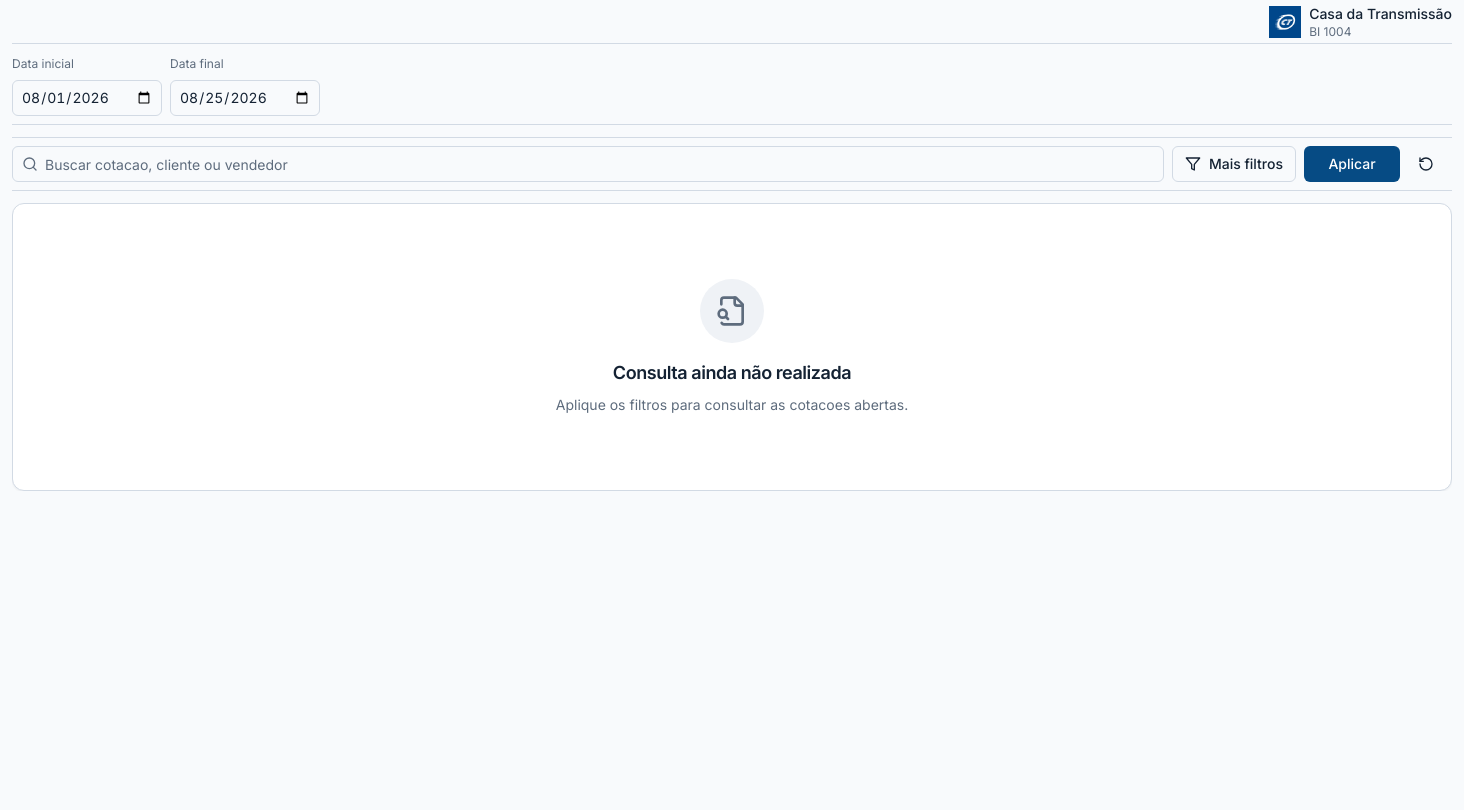
it: open quotes page › clears pending and applied filters and returns to pre-search
This screenshot has width=1464, height=810.
Click the button "Aplicar".
click(1352, 164)  # box [1304, 146, 1400, 182]
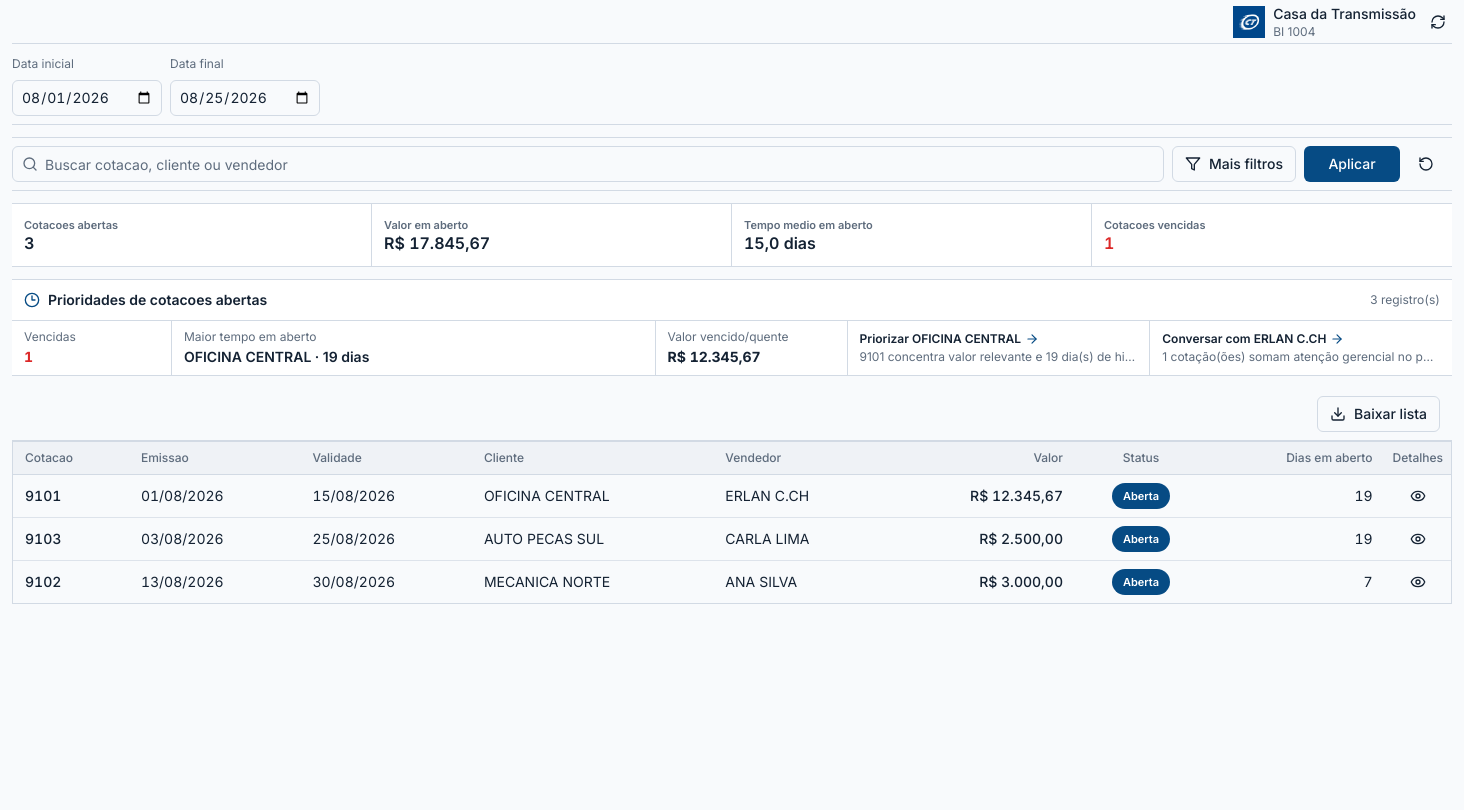
Type "2026-08-10" into the date field labelled "Data inicial".
click(87, 98); type("2026-08-10")  # box [12, 80, 162, 116]
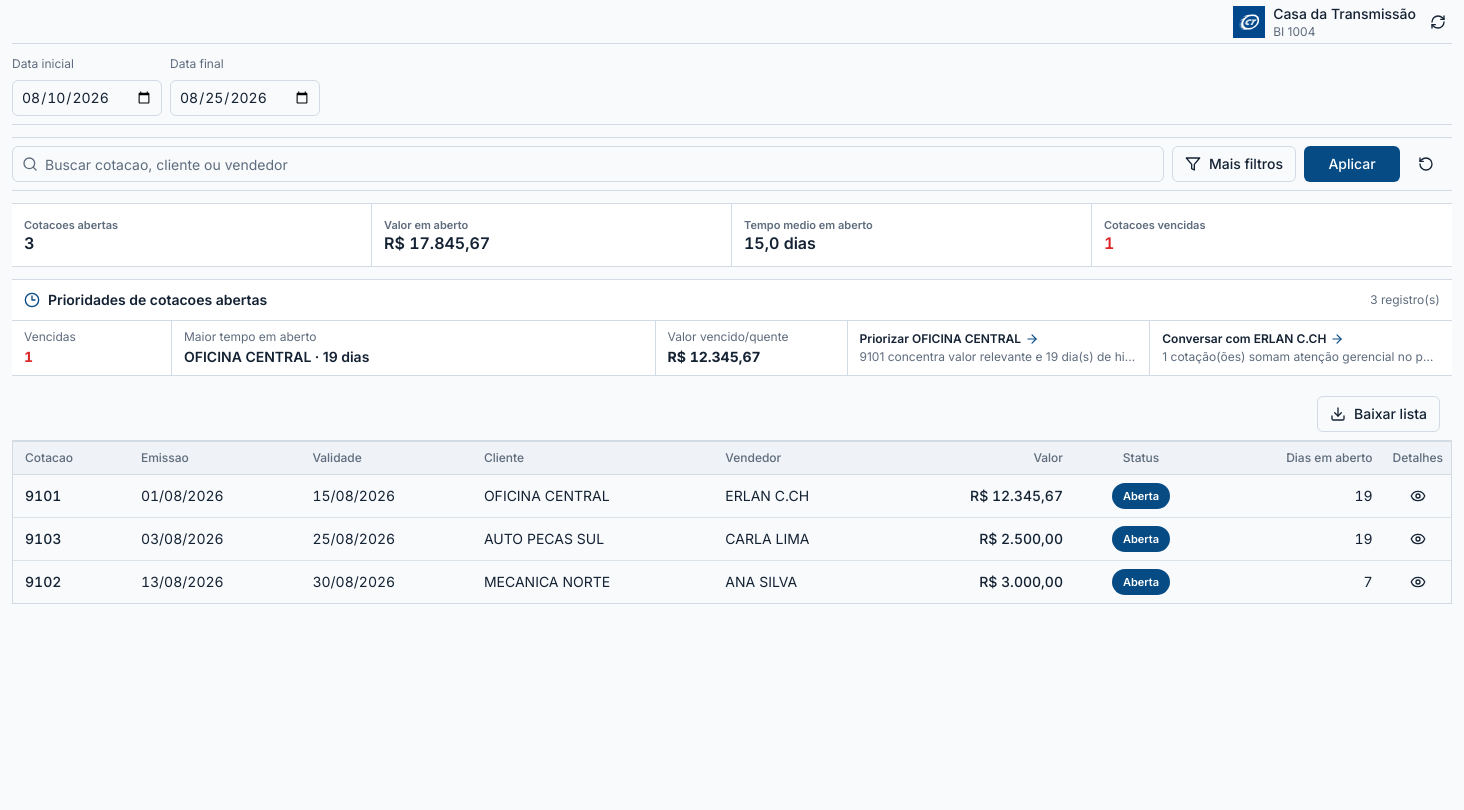
Type "oficina" into the field named "Buscar cotacoes".
click(588, 164); type("oficina")  # box [12, 146, 1164, 182]
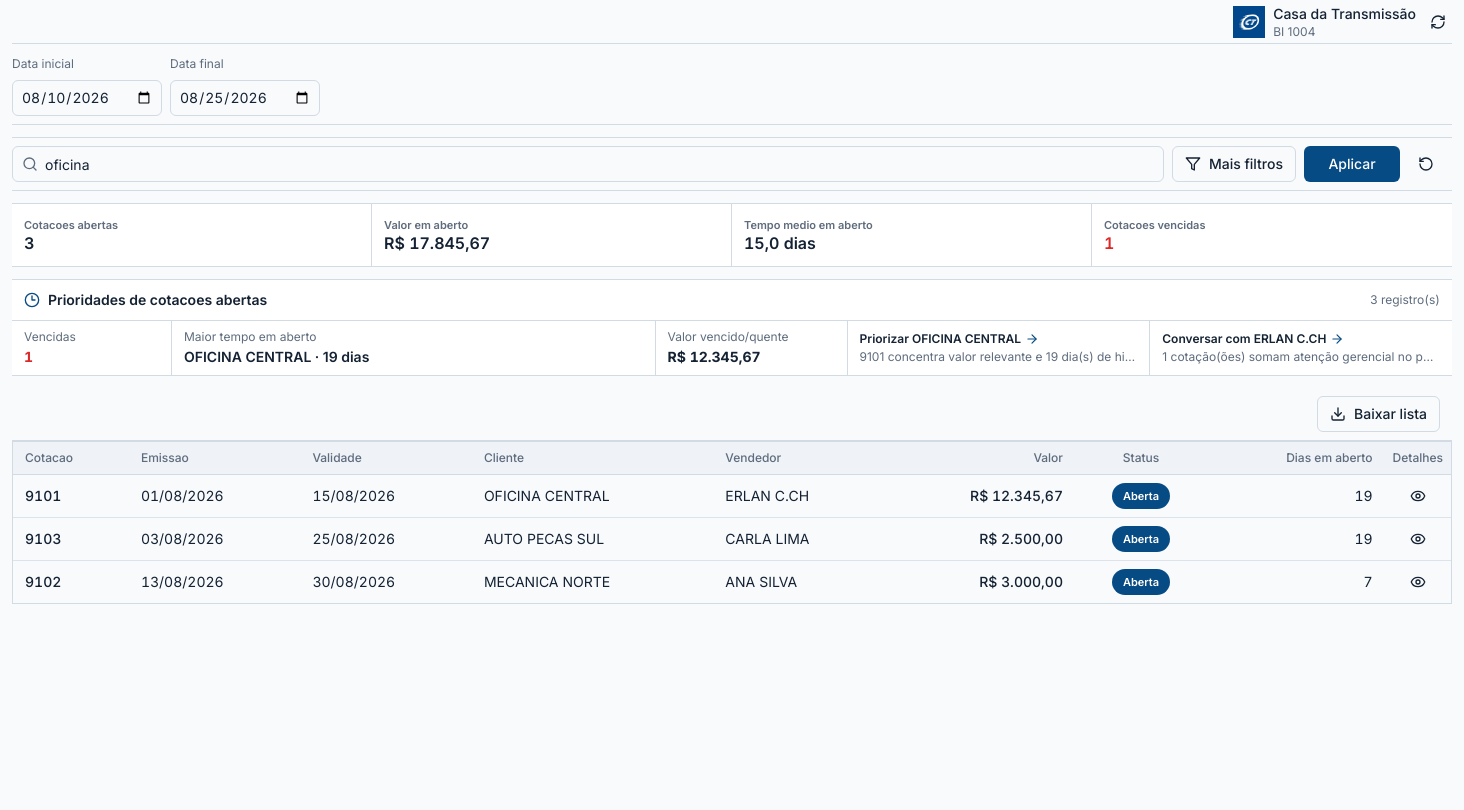
Click the button "Aplicar".
click(1352, 164)  # box [1304, 146, 1400, 182]
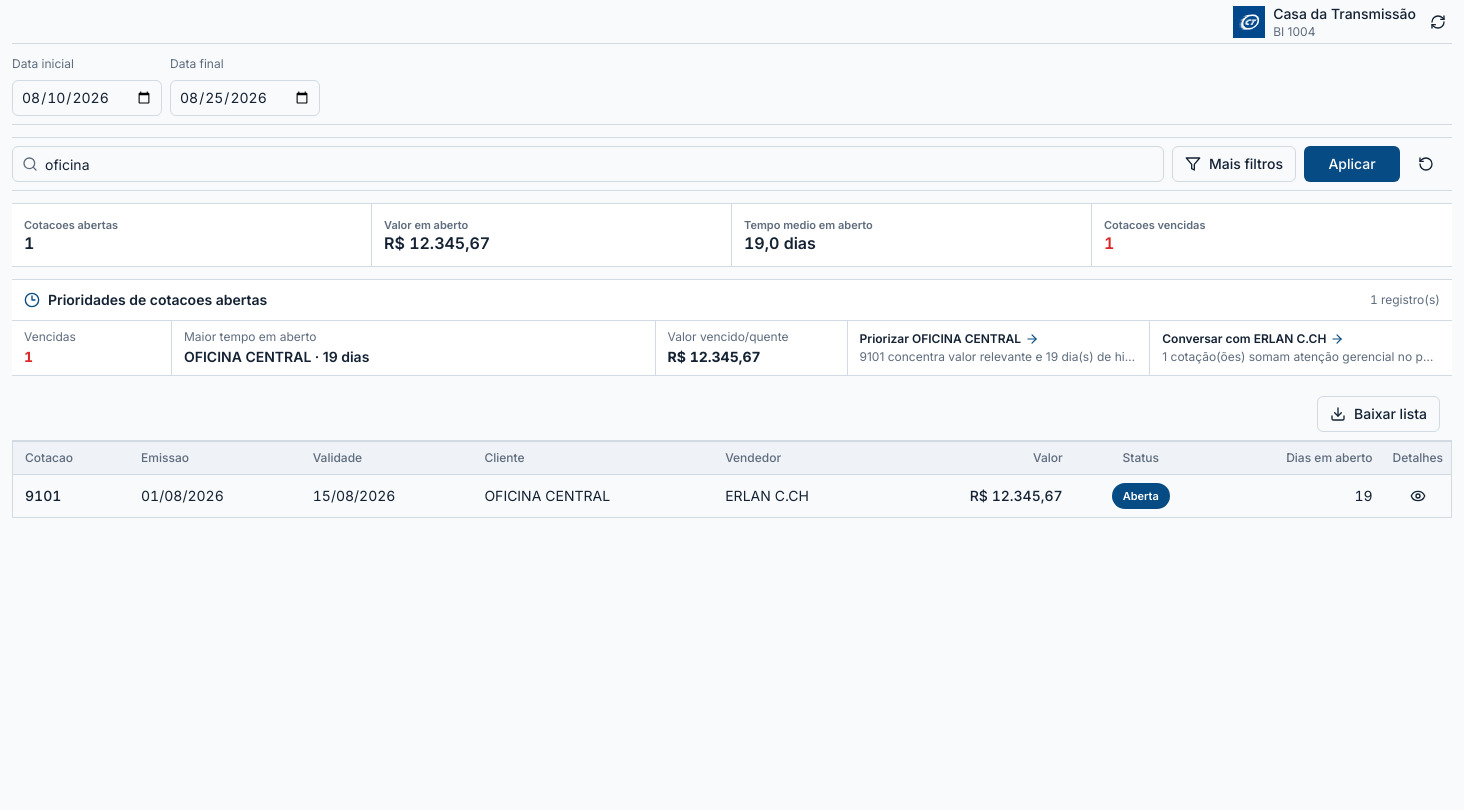
Now the table no longer shows "9103", box [13, 442, 1451, 517]
Click the button named "Limpar filtros".
click(1426, 164)  # box [1408, 146, 1444, 182]
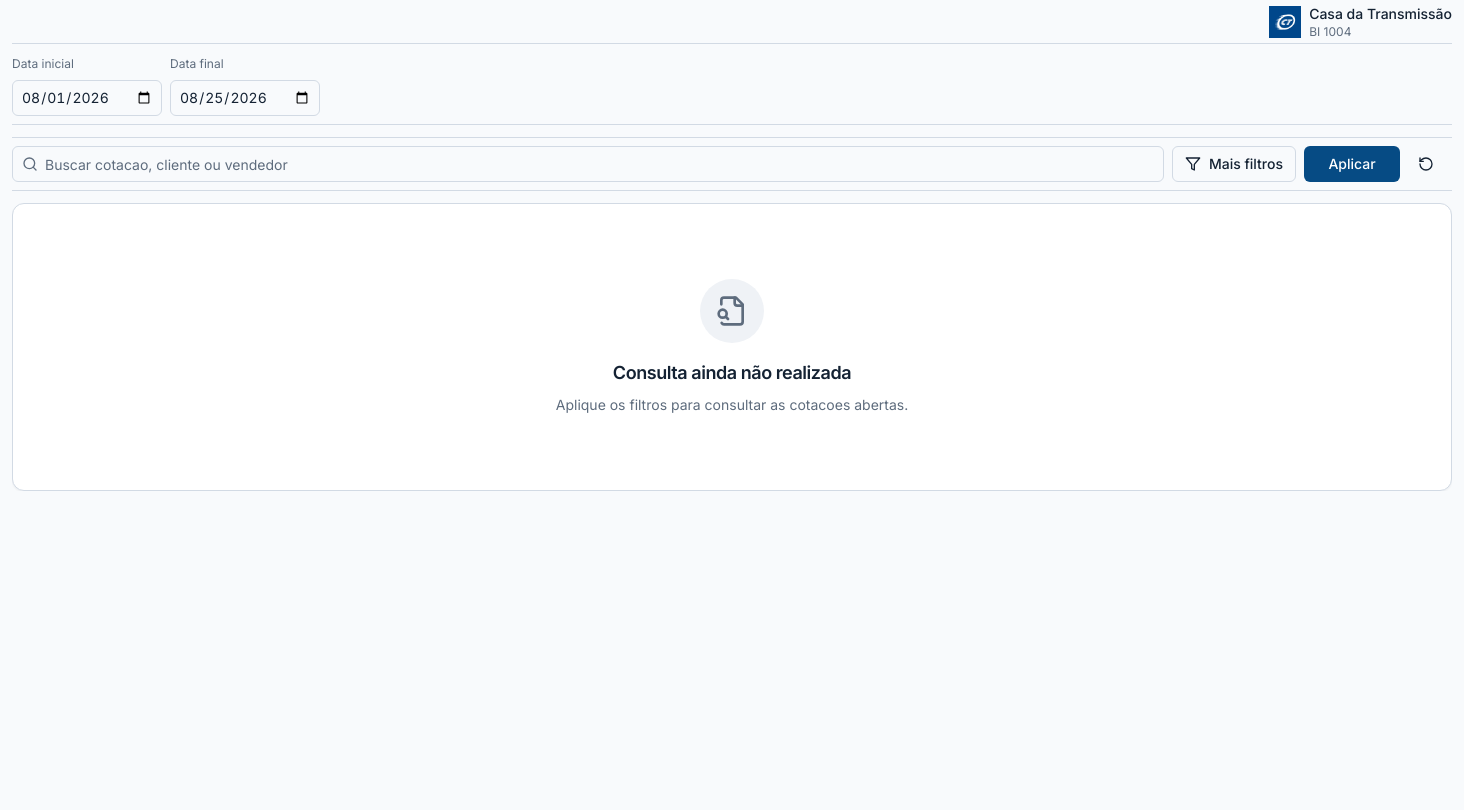
Now the date field labelled "Data inicial" holds "2026-08-01", box [12, 80, 162, 116]
Now the field named "Buscar cotacoes" is empty, box [12, 146, 1164, 182]
Now the heading "Consulta ainda não realizada" is shown, box [613, 359, 851, 387]
